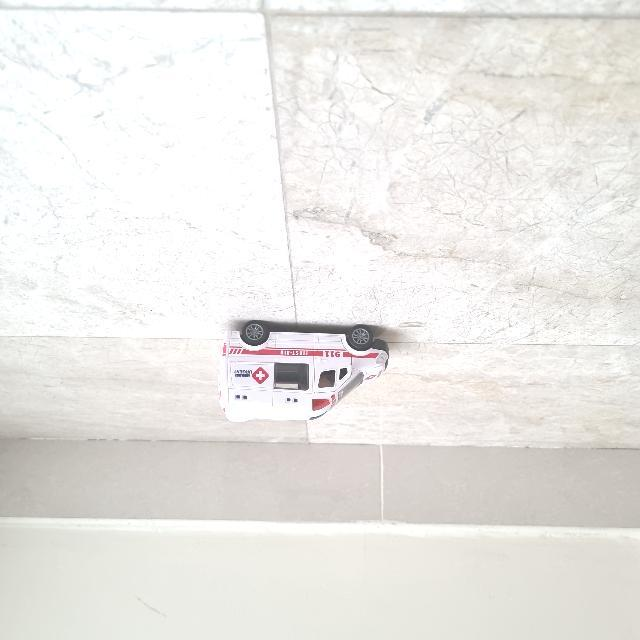emergency-vehicle: (218, 319, 390, 421)
